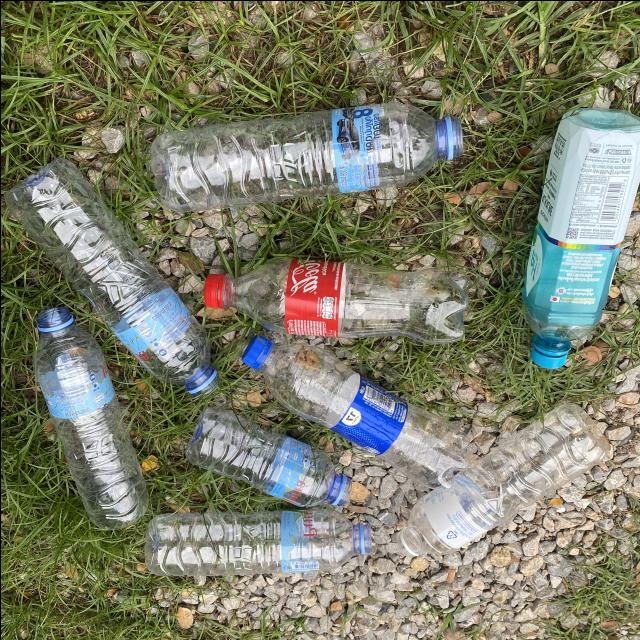plastik: (5, 157, 218, 395), (241, 335, 468, 487), (149, 101, 462, 211), (397, 402, 609, 554), (522, 108, 640, 368), (33, 306, 148, 528), (205, 257, 467, 342), (184, 406, 349, 506), (144, 507, 371, 575)
